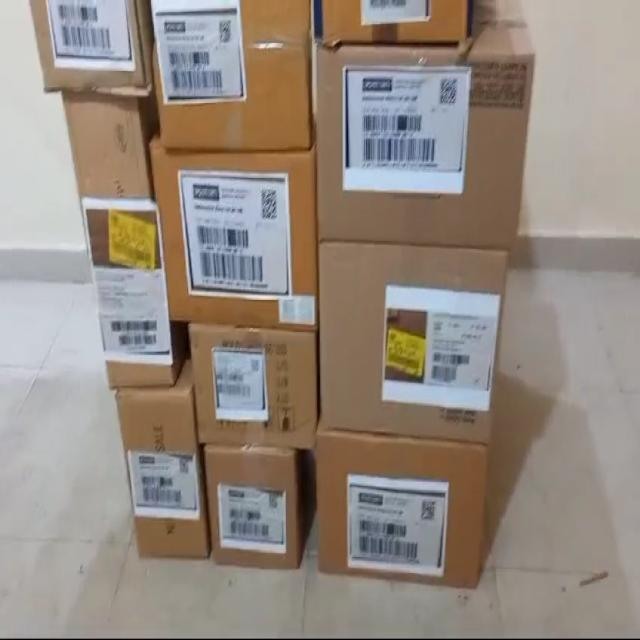BoxFace: (314, 27, 534, 259), (318, 235, 512, 438), (61, 100, 176, 389), (155, 146, 322, 342), (317, 426, 489, 582), (151, 0, 313, 153), (187, 317, 322, 452), (109, 381, 207, 558), (205, 447, 305, 573), (29, 0, 146, 93)
